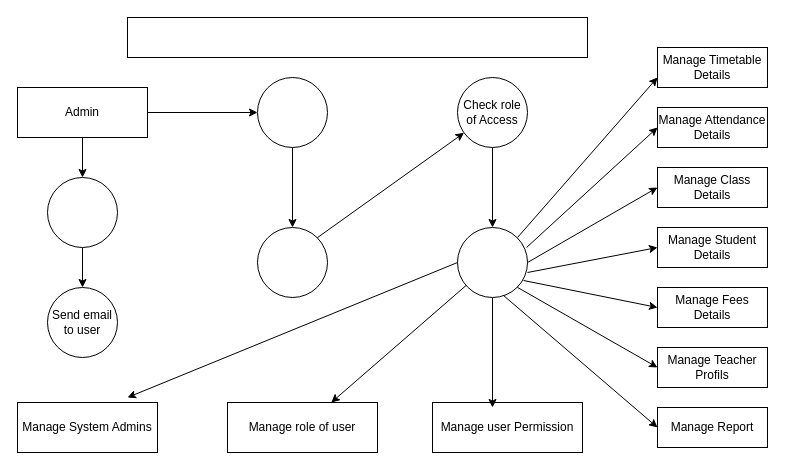
The diagram is 785 pixels wide and 470 high, and some of its shapes have lost their labels. Here are the shapes that lost their labels. From the top down, the centre of each, then its label:
point (357, 37): Student Information System
point (292, 112): Login to Sysytem
point (82, 212): Forgot Password?
point (292, 262): Check Credentials
point (492, 262): Manage Modules
